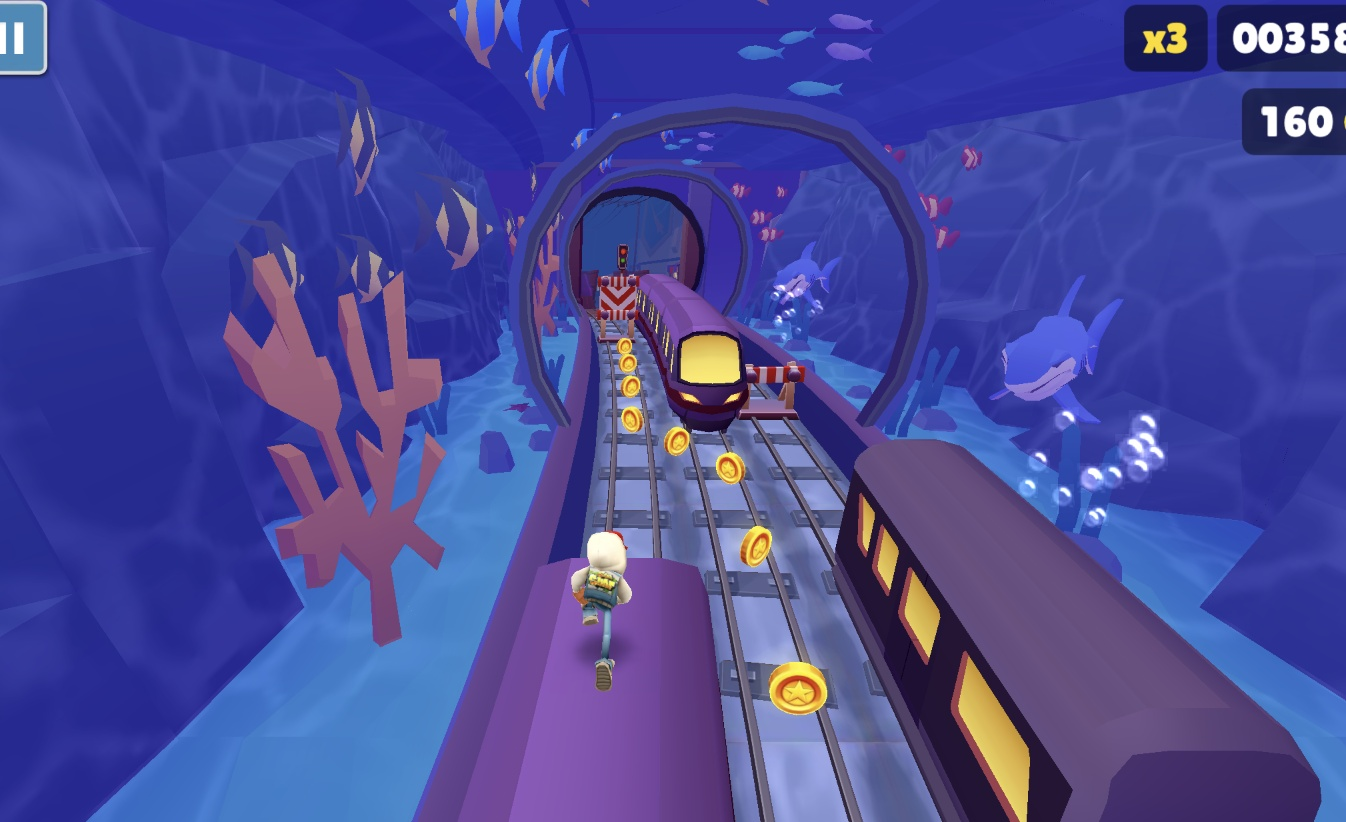ground_barrier: (744, 365, 806, 421)
overhead_barrier: (597, 275, 641, 338)
train: (833, 438, 1326, 822), (413, 559, 731, 822), (636, 275, 749, 433), (582, 270, 599, 310)
